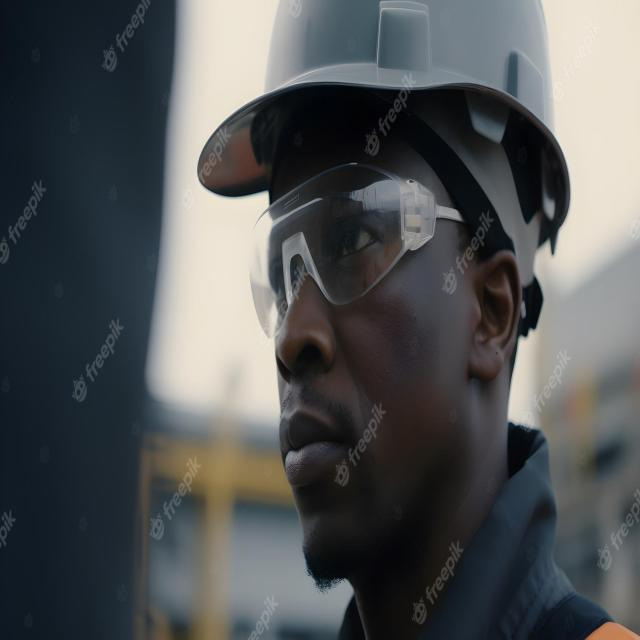goggles: (260, 167, 448, 334)
helmet: (202, 0, 580, 217)
